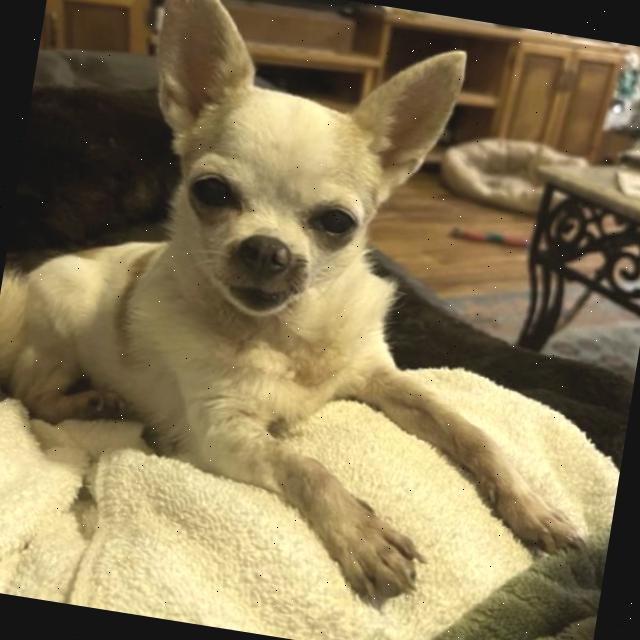chihuahua_dog: (83, 0, 494, 381)
